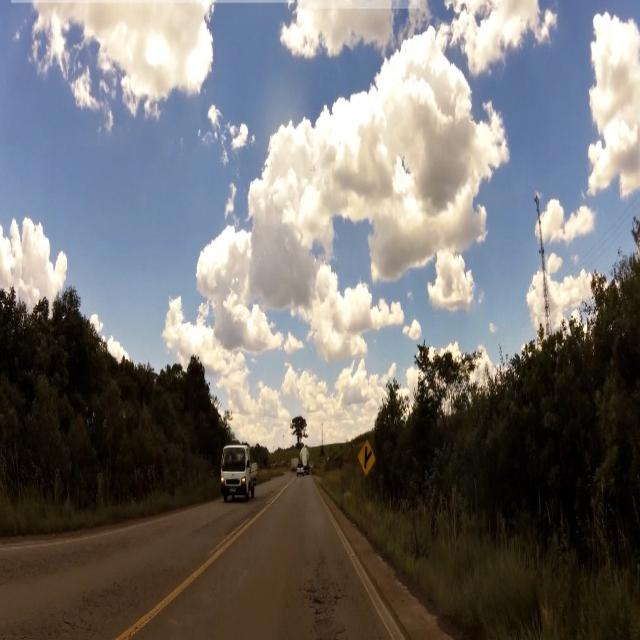A-10b: (356, 436, 376, 480)
